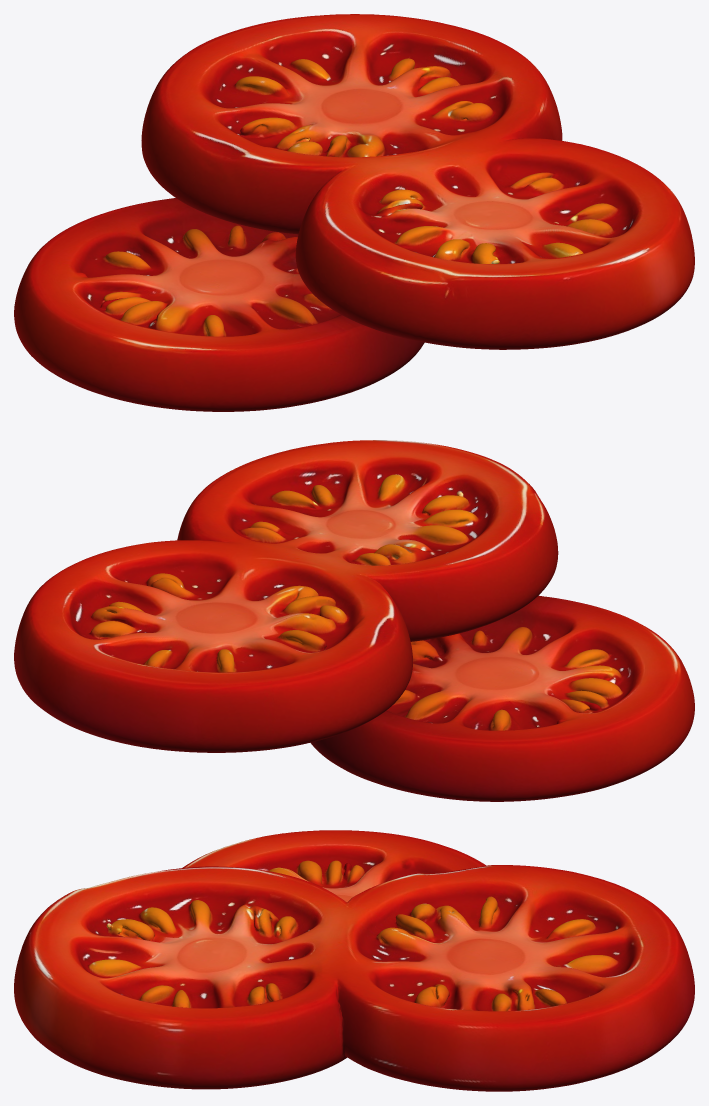
Rendered from tripo_convert_e7c7d5c5-8e0d-43b2-989b-5339c5324481.fbx.
The picture shows the model from 3 angles, top to bottom: view 1: azimuth 30°, elevation 25°; view 2: azimuth 150°, elevation 25°; view 3: azimuth 270°, elevation 25°; orthographic projection. The views are drawn at different scales.
Visible parts, largest first — view 1: tripo_node_e7c7d5c5; view 2: tripo_node_e7c7d5c5; view 3: tripo_node_e7c7d5c5.
Part boxes in pixels (x1=…): tripo_node_e7c7d5c5: x1=14, y1=14, x2=694, y2=411; tripo_node_e7c7d5c5: x1=14, y1=440, x2=694, y2=801; tripo_node_e7c7d5c5: x1=14, y1=830, x2=694, y2=1091.
Bounding box in the file's own units: 0.9457 × 0.2071 × 0.9999.
